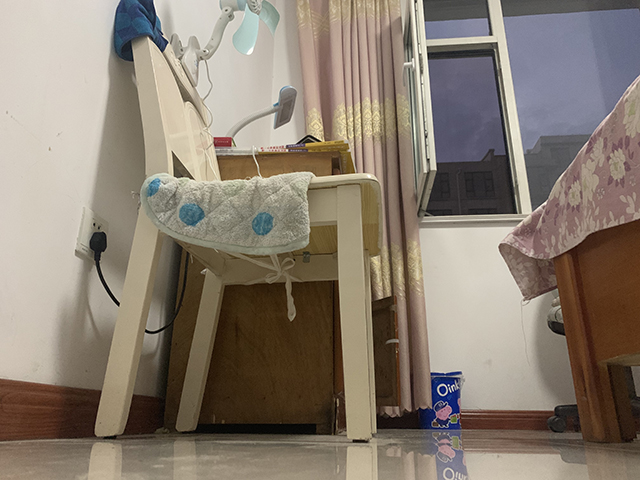curtain: (291, 1, 435, 422)
stool: (79, 1, 389, 447)
table: (161, 138, 405, 436)
trashcan: (421, 369, 465, 432)
wire: (91, 229, 119, 308)
